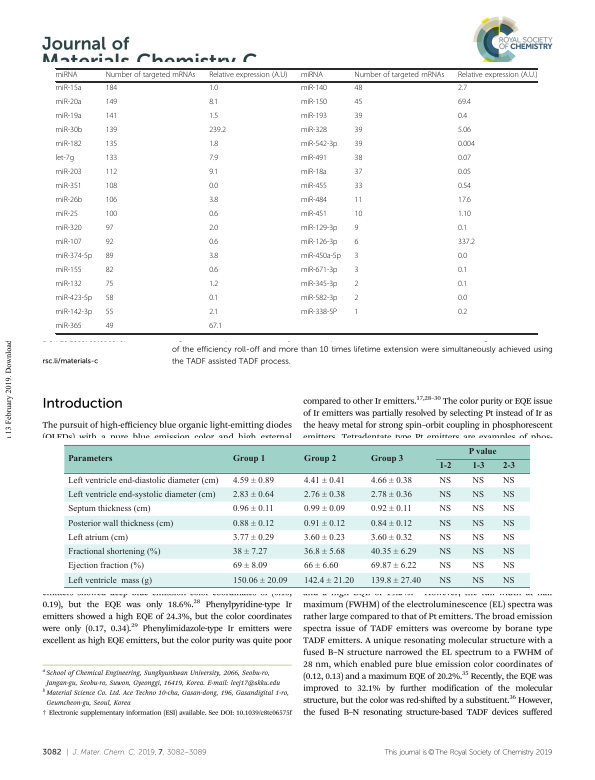borderless: (54, 67, 537, 333), (63, 443, 530, 587)
cell: (66, 476, 219, 486), (66, 490, 216, 500), (66, 519, 174, 529), (66, 547, 161, 557), (66, 504, 151, 515), (66, 576, 152, 586), (66, 561, 144, 572), (353, 71, 445, 80), (105, 71, 196, 80), (457, 71, 538, 80), (208, 71, 288, 80), (66, 533, 128, 543), (232, 576, 288, 586), (370, 561, 417, 572), (303, 576, 354, 586), (370, 576, 421, 586), (370, 547, 417, 557), (232, 504, 274, 515), (303, 504, 345, 515), (370, 504, 412, 515), (67, 455, 113, 465), (232, 476, 274, 486), (303, 476, 345, 486), (370, 476, 412, 486), (232, 490, 274, 500), (303, 490, 345, 500), (370, 490, 412, 500), (232, 519, 274, 529), (303, 519, 345, 529), (370, 519, 412, 529), (232, 533, 274, 543), (303, 533, 345, 543), (370, 533, 412, 543), (303, 547, 345, 557), (300, 252, 342, 262), (232, 561, 268, 572), (303, 561, 339, 572), (300, 140, 338, 150), (300, 224, 338, 234), (300, 238, 338, 248), (55, 252, 93, 262), (300, 266, 338, 276), (300, 280, 338, 290), (55, 294, 93, 304), (300, 294, 338, 304), (55, 308, 93, 318), (300, 308, 338, 318), (232, 547, 268, 557), (369, 455, 404, 465), (232, 455, 266, 465), (303, 455, 337, 465), (467, 448, 497, 458), (300, 84, 328, 94), (300, 98, 328, 108), (300, 112, 328, 122), (55, 126, 83, 136), (300, 126, 328, 136), (300, 154, 328, 164), (300, 168, 328, 178), (300, 182, 328, 192), (55, 196, 83, 206), (300, 196, 328, 206), (300, 210, 328, 220), (55, 84, 82, 94), (55, 98, 82, 108), (55, 112, 82, 122), (55, 140, 82, 150), (55, 168, 82, 178), (55, 182, 82, 192), (55, 224, 82, 234), (55, 238, 82, 248), (55, 266, 82, 276), (55, 280, 82, 290), (55, 322, 82, 332), (55, 210, 79, 220), (300, 71, 324, 80), (55, 71, 78, 80), (55, 154, 75, 164), (208, 126, 227, 136), (457, 140, 476, 150), (457, 238, 476, 248), (438, 504, 452, 515), (471, 504, 485, 515), (438, 561, 452, 572), (471, 561, 485, 572), (457, 98, 472, 108), (457, 126, 472, 136), (457, 154, 472, 164), (457, 168, 472, 178), (457, 182, 472, 192), (457, 196, 472, 206), (457, 210, 472, 220), (208, 322, 223, 332), (502, 504, 515, 515), (502, 561, 515, 572), (438, 462, 452, 472), (471, 462, 485, 472), (501, 462, 515, 472), (438, 476, 452, 486), (471, 476, 485, 486), (438, 490, 452, 500), (471, 490, 485, 500), (438, 519, 452, 529), (471, 519, 485, 529), (438, 533, 452, 543), (471, 533, 485, 543), (438, 547, 452, 557), (471, 547, 485, 557), (438, 576, 452, 586), (471, 576, 485, 586), (502, 476, 515, 486), (502, 490, 515, 500), (502, 519, 515, 529), (502, 533, 515, 543), (502, 547, 515, 557), (502, 576, 515, 586), (105, 84, 118, 94), (105, 98, 118, 108), (105, 112, 118, 122), (105, 126, 118, 136), (105, 140, 118, 150), (105, 154, 118, 164), (105, 168, 118, 178), (105, 182, 118, 192), (105, 196, 118, 206), (105, 210, 118, 220), (208, 84, 219, 94), (457, 84, 468, 94), (208, 98, 219, 108), (208, 112, 219, 122), (457, 112, 468, 122), (208, 140, 219, 150), (208, 154, 219, 164), (208, 168, 219, 178), (208, 182, 219, 192), (208, 196, 219, 206), (208, 210, 219, 220), (208, 224, 219, 234), (457, 224, 468, 234), (208, 238, 219, 248), (208, 252, 219, 262), (457, 252, 468, 262), (208, 266, 219, 276), (457, 266, 468, 276), (208, 280, 219, 290), (457, 280, 468, 290), (208, 294, 219, 304), (457, 294, 468, 304), (208, 308, 219, 318), (457, 308, 468, 318), (353, 84, 363, 94), (353, 98, 363, 108), (353, 112, 363, 122), (353, 126, 363, 136), (353, 140, 363, 150), (353, 154, 363, 164), (353, 168, 363, 178), (353, 182, 363, 192), (353, 196, 363, 206), (353, 210, 363, 220), (105, 224, 114, 234), (105, 238, 114, 248), (105, 252, 114, 262), (105, 266, 114, 276), (105, 280, 114, 290), (105, 294, 114, 304), (105, 308, 114, 318), (105, 322, 114, 332), (353, 224, 359, 234), (353, 238, 359, 248), (353, 252, 359, 262), (353, 266, 359, 276), (353, 280, 359, 290), (353, 294, 359, 304), (353, 308, 359, 318)
